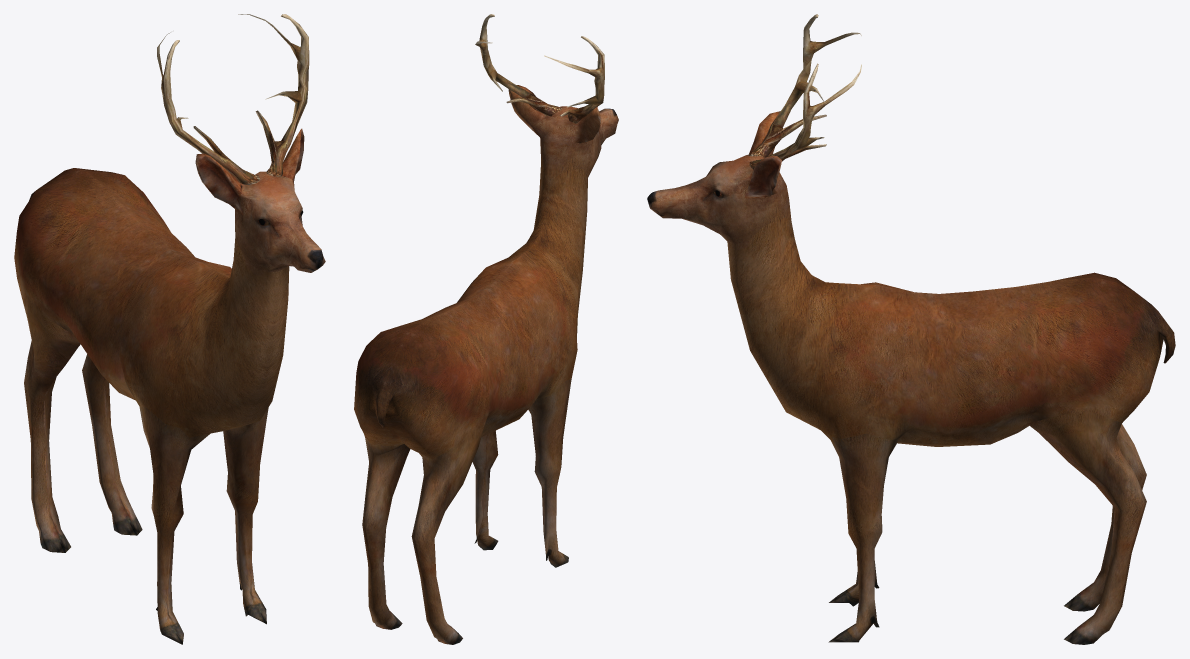
The picture shows the model from 3 angles, left to right: view 1: azimuth 30°, elevation 25°; view 2: azimuth 150°, elevation 25°; view 3: azimuth 270°, elevation 25°; orthographic projection. The views are drawn at different scales.
Parts seen in each view (by area): view 1: Geode; view 2: Geode; view 3: Geode.
Part boxes in pixels (left/top/right/bottom): Geode: left=14, top=14, right=325, bottom=644; Geode: left=354, top=14, right=618, bottom=644; Geode: left=647, top=14, right=1175, bottom=644.
Bounding box in the file's own units: 1.01 × 4.1 × 3.36.
Materials: 2 (2 with a texture image).
